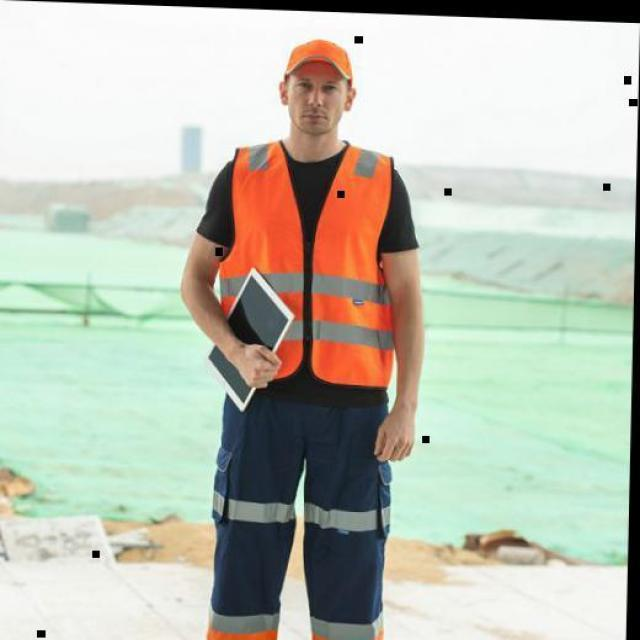safety_helmet: (205, 141, 420, 392)
